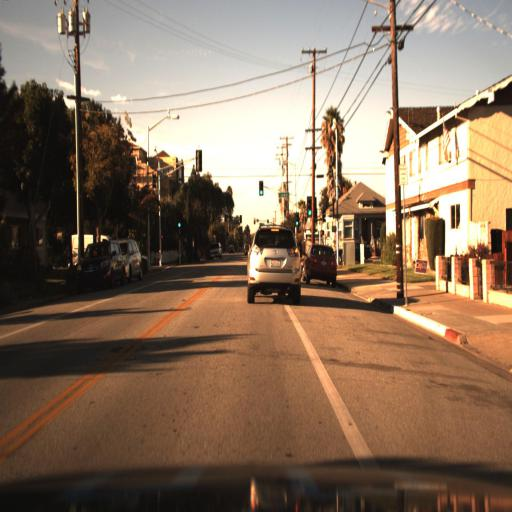car: (238, 217, 303, 309), (67, 233, 123, 294), (74, 235, 123, 291), (299, 232, 346, 288), (71, 224, 105, 253), (125, 238, 144, 285), (206, 237, 225, 265)
trafficLight-Green: (305, 194, 316, 220), (257, 177, 265, 198), (256, 185, 266, 201), (294, 215, 302, 229), (176, 221, 182, 237), (176, 217, 182, 232), (293, 216, 299, 231), (306, 207, 312, 218)
